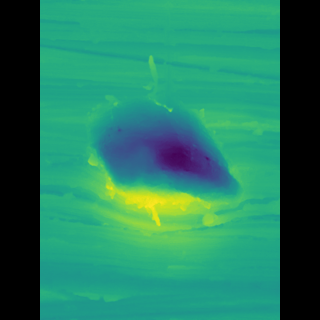Loch: (95, 88, 227, 232)
